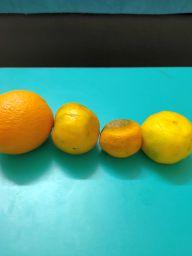orange: (0, 90, 55, 156), (141, 110, 192, 164), (52, 103, 99, 156), (99, 120, 142, 159)
